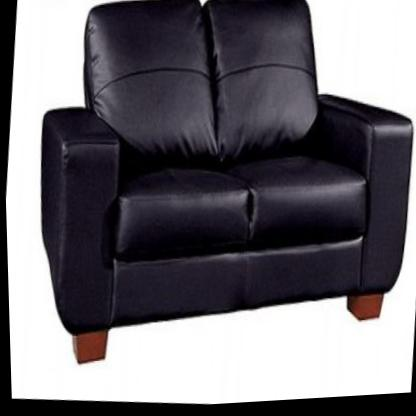Sofa: (17, 0, 416, 396)
